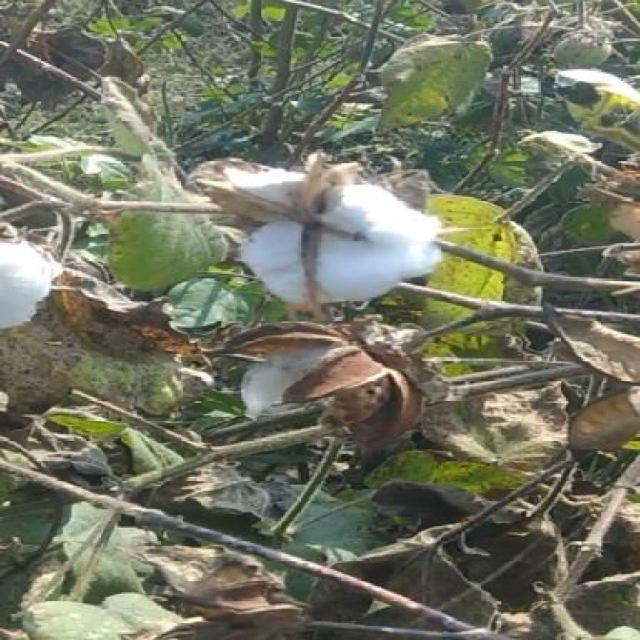cotton_ready: (193, 156, 455, 322)
